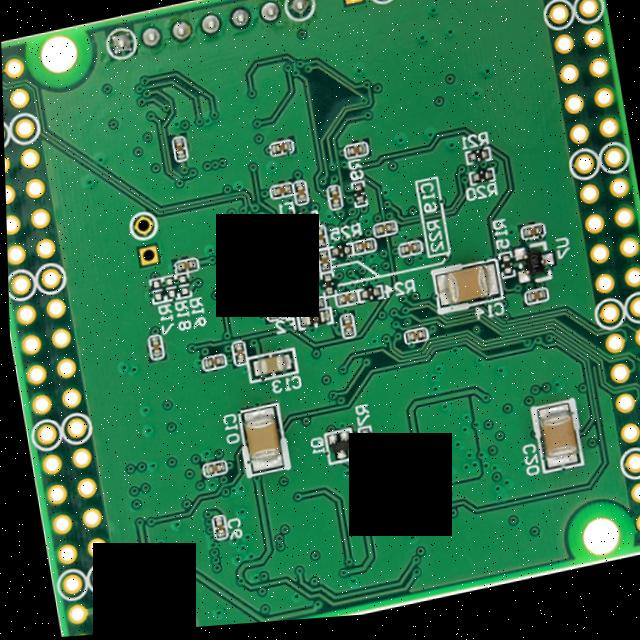-component text- 06Y: (524, 260, 537, 278)
2080: (377, 474, 402, 492)
2156: (373, 459, 399, 473)
2200: (353, 430, 370, 458)
2222: (349, 187, 364, 212)
2845: (215, 413, 236, 449)
2878: (264, 378, 300, 400)
2944: (413, 186, 435, 222)
2956: (515, 448, 536, 486)
3199: (221, 518, 238, 545)
3359: (271, 203, 293, 222)
3360: (269, 322, 294, 341)
3753: (302, 437, 322, 462)
3822: (486, 223, 509, 259)
3833: (184, 297, 205, 332)
3844: (152, 304, 173, 338)
3855: (168, 301, 189, 336)
3878: (459, 188, 495, 211)
3889: (455, 135, 490, 157)
3900: (419, 221, 442, 260)
3911: (281, 269, 315, 291)
3921: (378, 281, 414, 306)
3932: (324, 224, 363, 248)
4018: (231, 262, 265, 285)
4046: (401, 469, 424, 488)
4122: (399, 451, 423, 471)
4168: (347, 407, 368, 432)
4190: (342, 162, 363, 187)
4370: (549, 242, 569, 269)
4440: (320, 434, 351, 469)
4490: (223, 290, 250, 311), (334, 316, 353, 345), (398, 332, 425, 352), (144, 335, 162, 364), (322, 188, 340, 217), (517, 229, 543, 249), (329, 294, 355, 313), (340, 146, 366, 165), (168, 138, 186, 165), (197, 463, 224, 481), (257, 299, 275, 326), (349, 242, 374, 261), (196, 356, 222, 374), (368, 225, 394, 243), (394, 245, 419, 263), (266, 186, 292, 203), (297, 301, 323, 318), (520, 295, 544, 313), (266, 143, 290, 160), (227, 344, 242, 370), (249, 228, 264, 254), (272, 299, 287, 325), (290, 184, 305, 210), (171, 261, 195, 277), (310, 229, 323, 254)
capacitor C100: (232, 406, 283, 480)
capacitor C130: (244, 353, 293, 386)
capacitor C140: (428, 265, 498, 318)
capacitor C190: (312, 253, 330, 278)
capacitor C200: (527, 408, 579, 480)
capacitor C60: (205, 517, 223, 546)
connector CN2: (330, 0, 428, 23)
connector CNB: (532, 0, 640, 555)
connector CON2: (1, 41, 126, 640)
connector TP3: (124, 209, 164, 273)
ic U7: (510, 251, 547, 292)
inductor F2: (279, 215, 316, 238)
inductor J3 -2-2uH-: (291, 311, 330, 334)
pads R16: (172, 276, 187, 301)
pads R17: (144, 280, 161, 307)
pads R18: (157, 277, 174, 305)
pins CN2: (96, 0, 321, 65)
resistor R150: (494, 259, 512, 286)
resistor R200: (464, 173, 495, 194)
resistor R210: (461, 154, 489, 172)
resistor R220: (317, 277, 332, 302)
resistor R230: (288, 256, 313, 274)
resistor R240: (353, 289, 381, 309)
resistor R250: (326, 246, 351, 265)
resistor R260: (265, 260, 290, 277)
